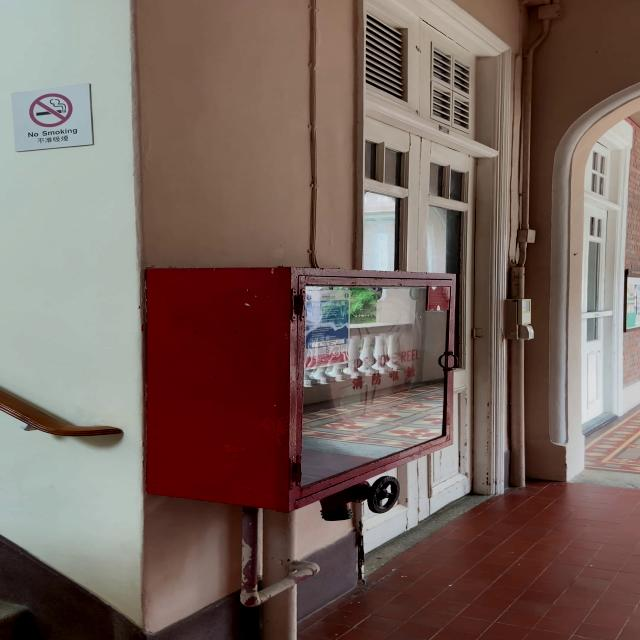room201: (437, 124, 450, 134)
